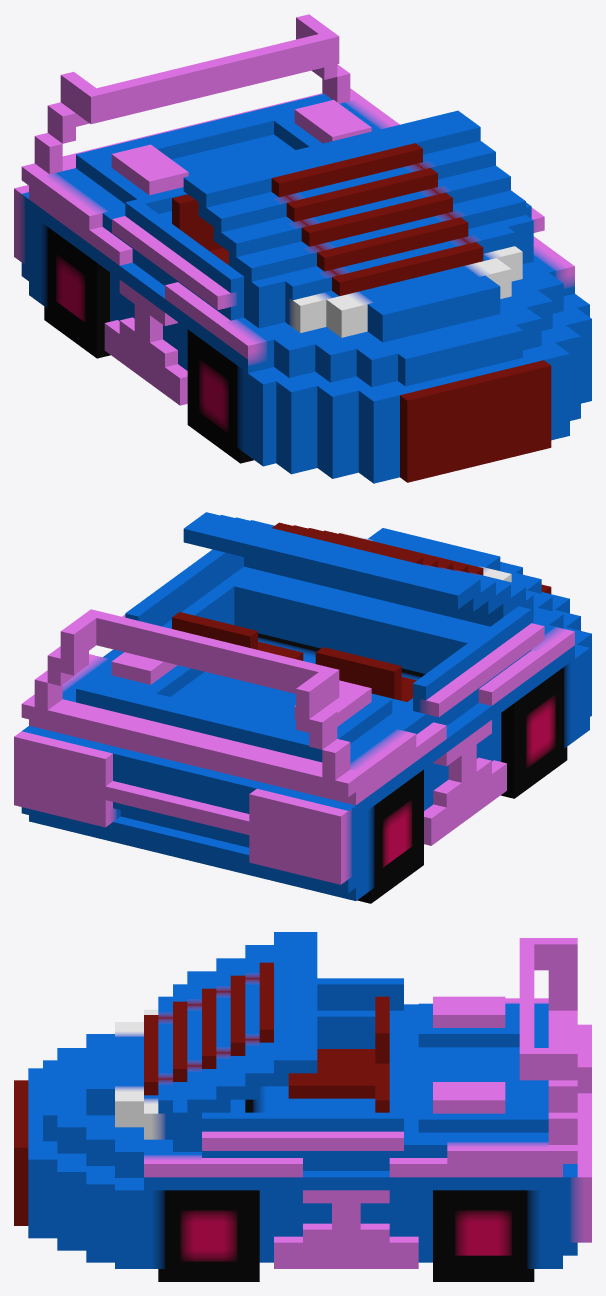
Rendered from Car_40.fbx.
The picture shows the model from 3 angles, top to bottom: view 1: azimuth 30°, elevation 25°; view 2: azimuth 150°, elevation 25°; view 3: azimuth 270°, elevation 25°; orthographic projection. The views are drawn at different scales.
Parts seen in each view (by area): view 1: Car_40; view 2: Car_40; view 3: Car_40.
Boxes of the visible parts, <box> form: Car_40: <box>14,14,591,483</box>; Car_40: <box>14,512,591,903</box>; Car_40: <box>14,932,591,1281</box>.
Size of the model in its own units: 25 by 16 by 40.
1 material, 1 textured.
